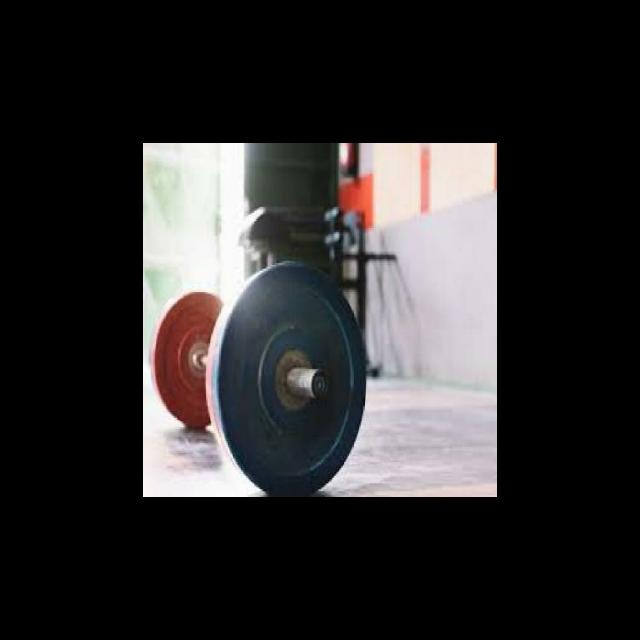barbell: (206, 257, 371, 497)
